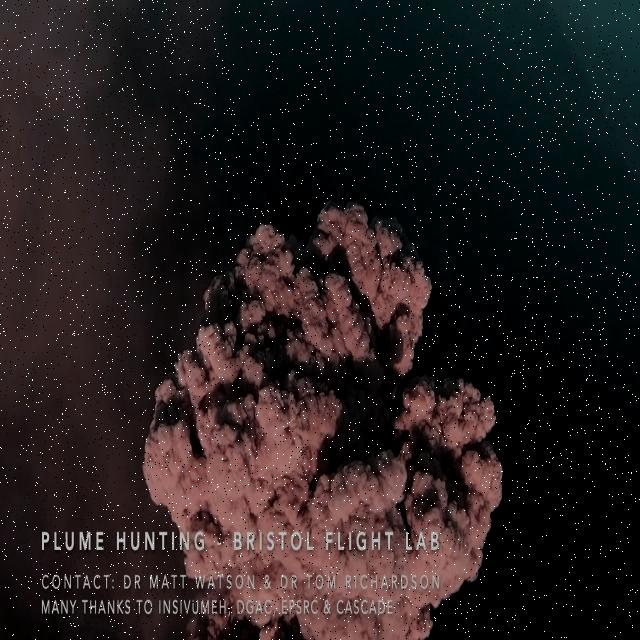Plume: (147, 191, 506, 640)
